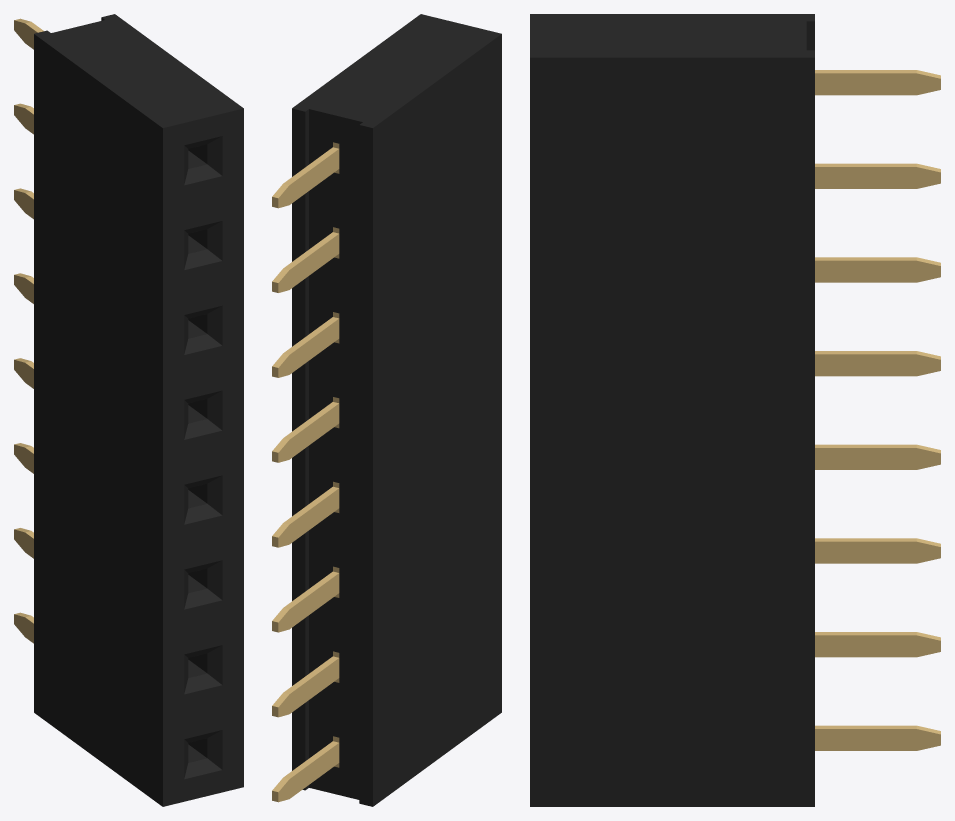
Rendered from PinSocket_1x08_P2.54mm_Vertical.glb.
3 views of the same model, side by side, from view 1: azimuth 30°, elevation 25°; view 2: azimuth 150°, elevation 25°; view 3: azimuth 270°, elevation 25° (orthographic). The views are drawn at different scales.
Parts seen in each view (by area): view 1: PinSocket_1x08_P254mm_Vertical_4f9fa1, PinSocket_1x08_P254mm_Vertical; view 2: PinSocket_1x08_P254mm_Vertical_4f9fa1, PinSocket_1x08_P254mm_Vertical; view 3: PinSocket_1x08_P254mm_Vertical_4f9fa1, PinSocket_1x08_P254mm_Vertical.
Part boxes in pixels (bbox=[...]): PinSocket_1x08_P254mm_Vertical_4f9fa1: bbox=[34, 14, 243, 806]; PinSocket_1x08_P254mm_Vertical: bbox=[14, 18, 43, 643]; PinSocket_1x08_P254mm_Vertical_4f9fa1: bbox=[292, 14, 501, 806]; PinSocket_1x08_P254mm_Vertical: bbox=[272, 142, 339, 802]; PinSocket_1x08_P254mm_Vertical_4f9fa1: bbox=[530, 14, 814, 806]; PinSocket_1x08_P254mm_Vertical: bbox=[815, 70, 940, 750].
Size of the model in its own units: 0.00254 by 0.0203 by 0.0101.
